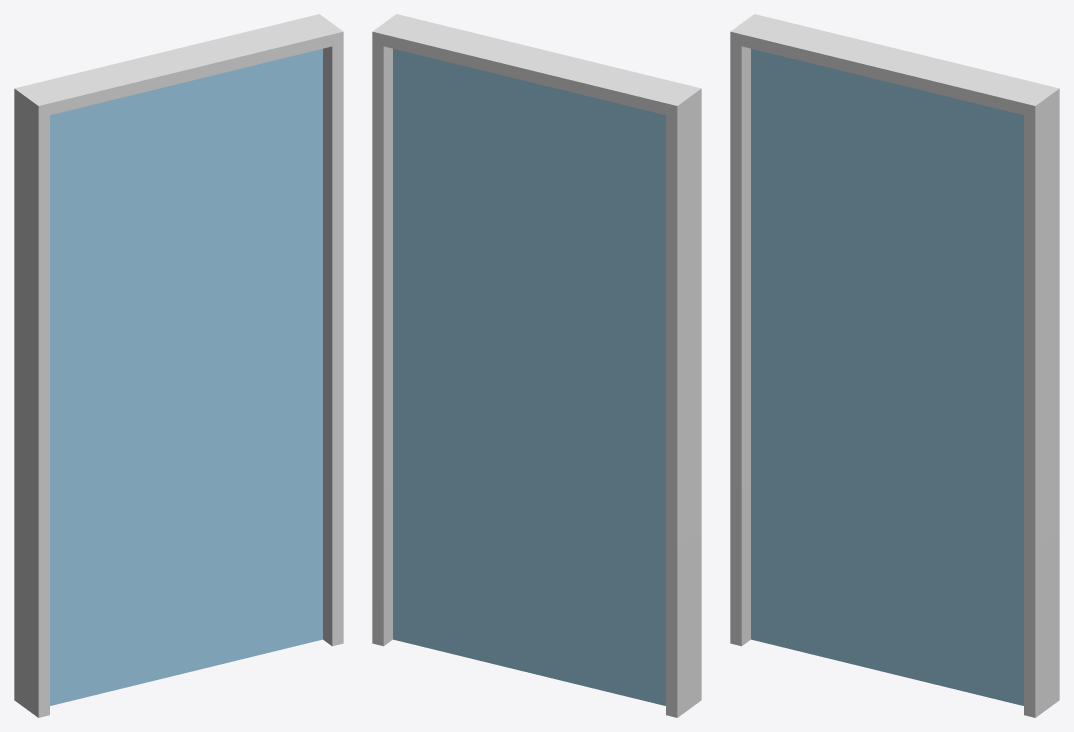
Rendered from window_005.glb.
3 renders of one model, left to right at view 1: azimuth 30°, elevation 25°; view 2: azimuth 150°, elevation 25°; view 3: azimuth 330°, elevation 25°, orthographic.
Visible parts, largest first — view 1: window_005; view 2: window_005; view 3: window_005.
Boxes of the visible parts, left/top/right/bottom form: window_005: left=14, top=14, right=343, bottom=717; window_005: left=372, top=14, right=701, bottom=717; window_005: left=730, top=14, right=1059, bottom=717.
Size of the model in its own units: 1.7 by 3.26 by 0.2331.
1 material, 1 textured.
